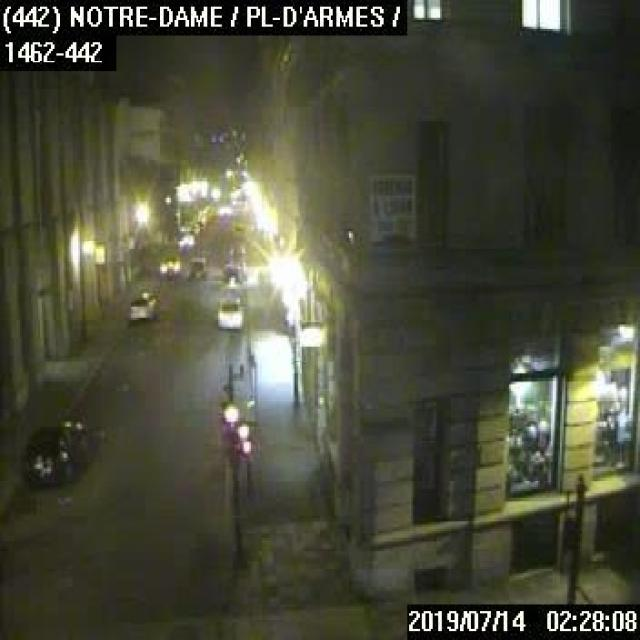vehicle: (22, 420, 85, 482), (214, 296, 243, 326), (129, 291, 156, 318), (158, 252, 182, 276), (220, 260, 244, 282), (188, 256, 208, 280), (212, 200, 235, 218)
